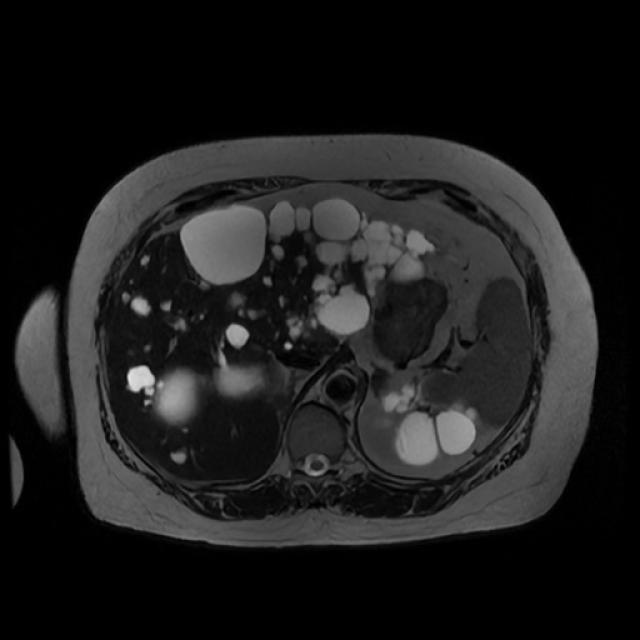sag: (151, 364, 268, 426)
sol: (378, 381, 480, 466)
